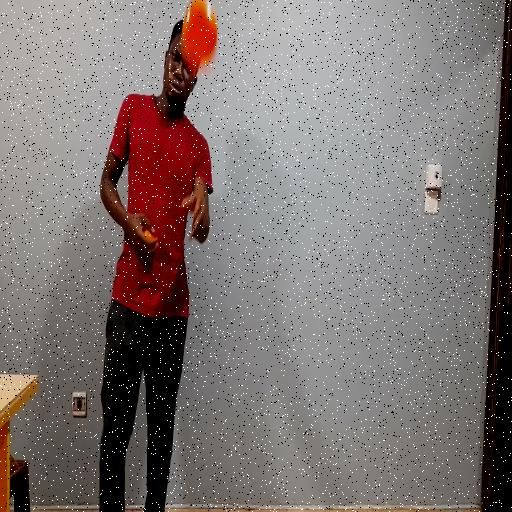plastic-ball: (178, 0, 221, 77)
